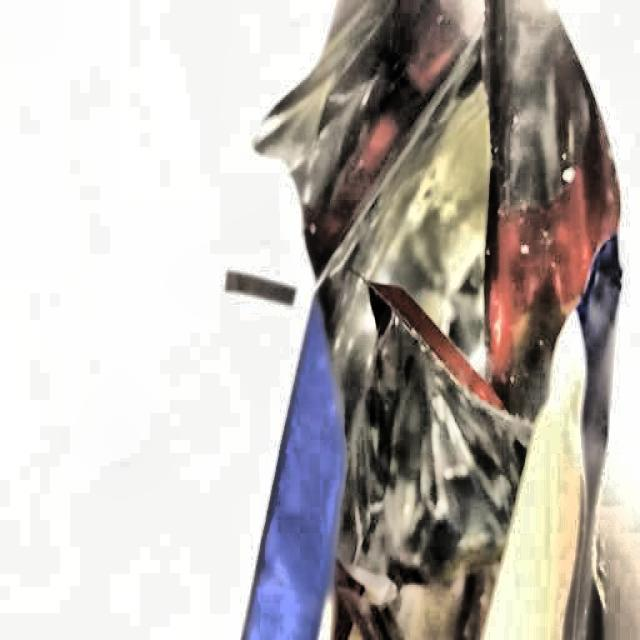trash: (271, 28, 607, 640)
